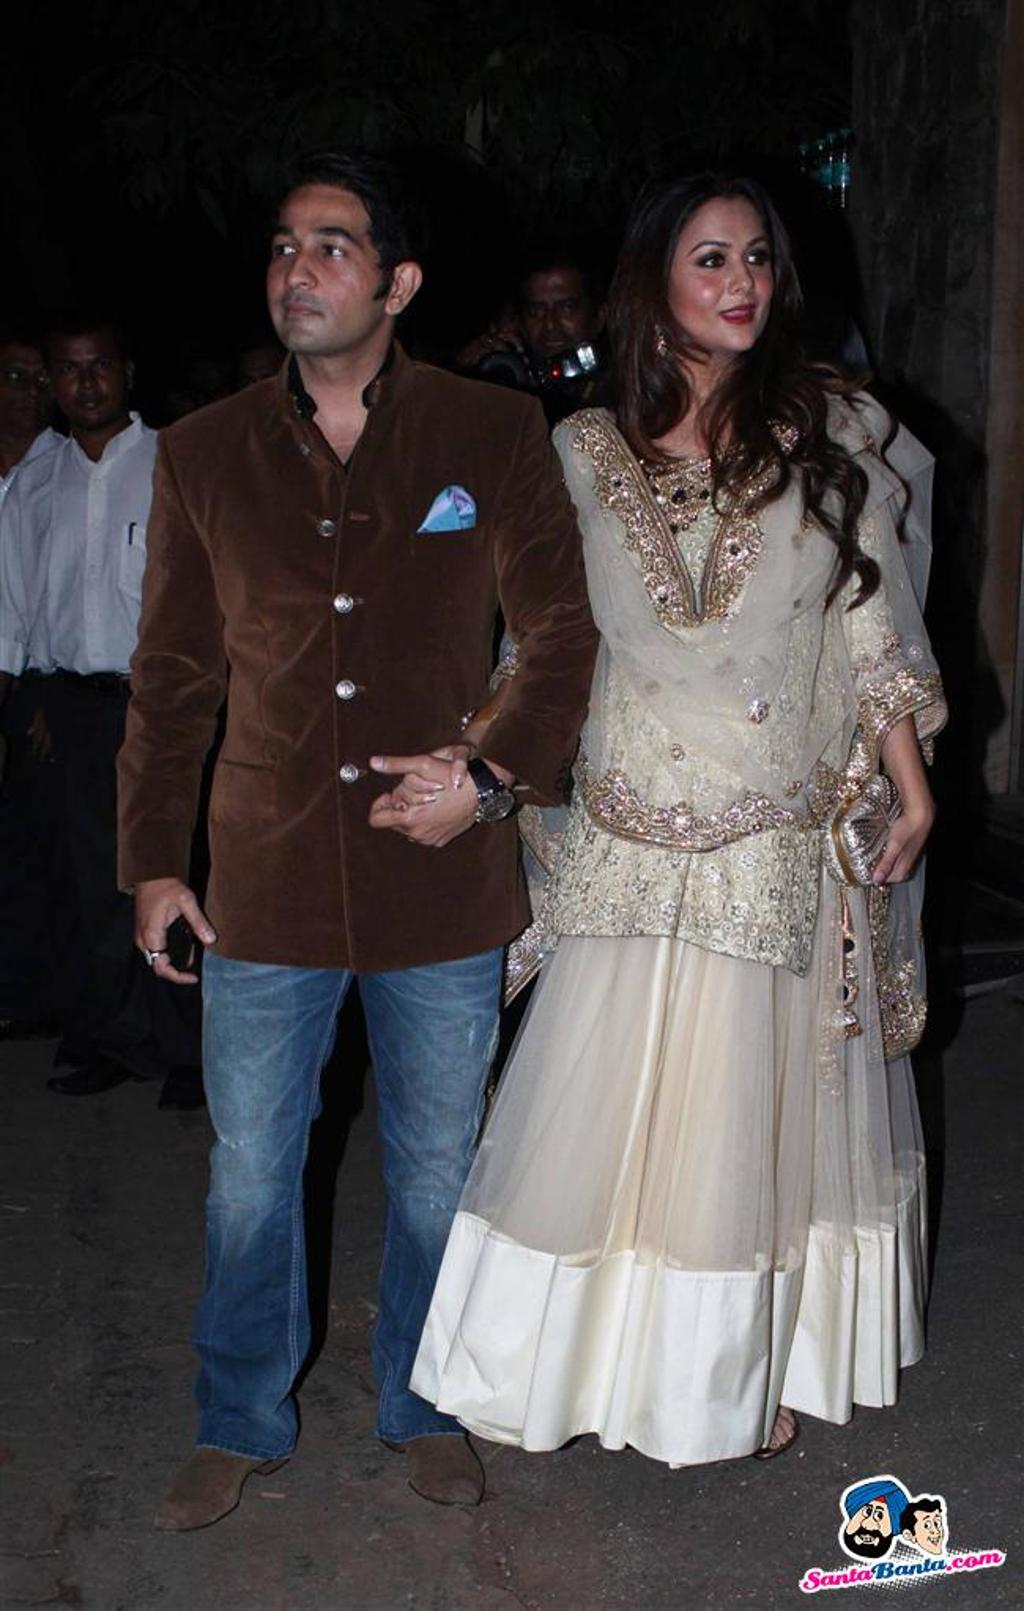face: (276, 173, 383, 352), (678, 201, 775, 349), (47, 330, 129, 431), (523, 279, 581, 358)
